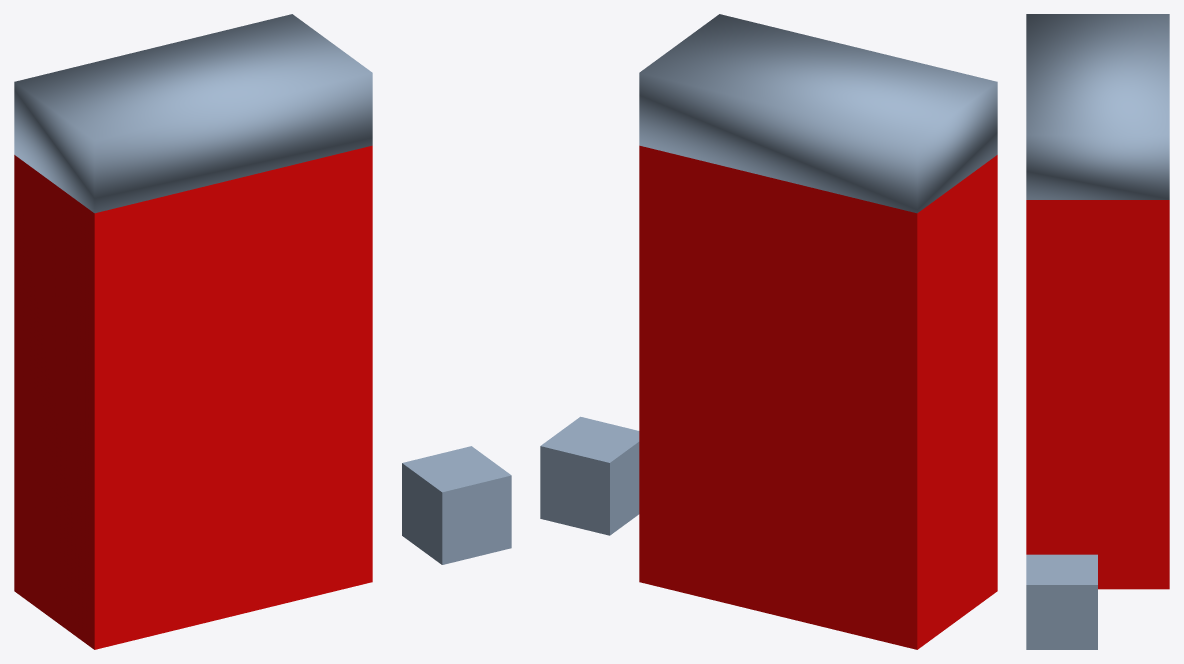
The model's file is preview-v2.glb.
The picture shows the model from 3 angles, left to right: view 1: azimuth 30°, elevation 25°; view 2: azimuth 150°, elevation 25°; view 3: azimuth 270°, elevation 25°; orthographic projection. The views are drawn at different scales.
Visible parts, largest first — view 1: base, lid, plain; view 2: base, lid, plain; view 3: base, lid, plain.
Boxes of the visible parts, box(x1,y1,x2,y2) form: base: box(14, 145, 372, 649); lid: box(14, 14, 372, 213); plain: box(402, 446, 511, 564); base: box(639, 145, 997, 649); lid: box(639, 14, 997, 213); plain: box(540, 416, 639, 535); base: box(1026, 200, 1169, 589); lid: box(1026, 14, 1169, 199); plain: box(1026, 554, 1097, 649).
Bounding box in the file's own units: 6 × 7 × 2.
